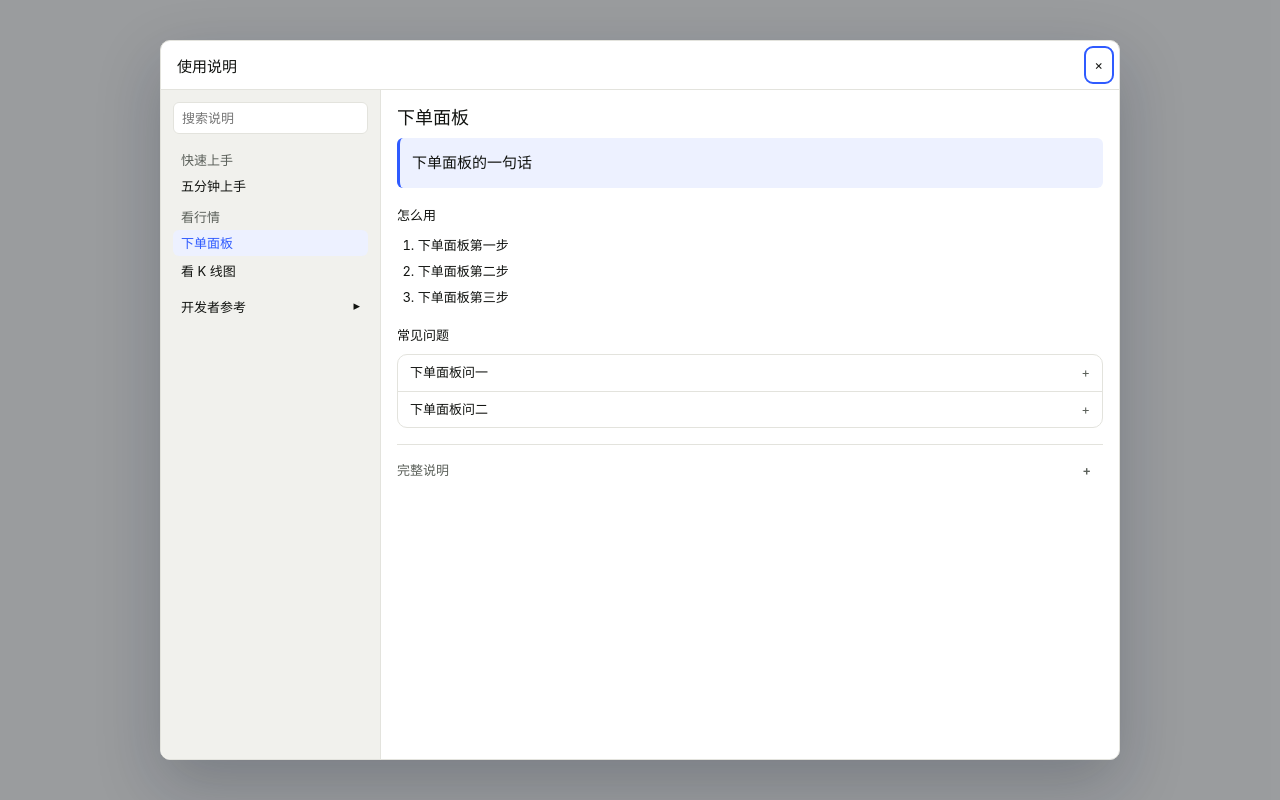
Test: 常见问题逐条展开，完整说明点开 / 收起
This screenshot has width=1280, height=800.
expect the element named "下单面板" is shown: met, box [397, 107, 1103, 489]
expect the text "下单面板答二" is not shown: met
Click the button "下单面板问二" at (449, 409), box [398, 392, 1102, 427]
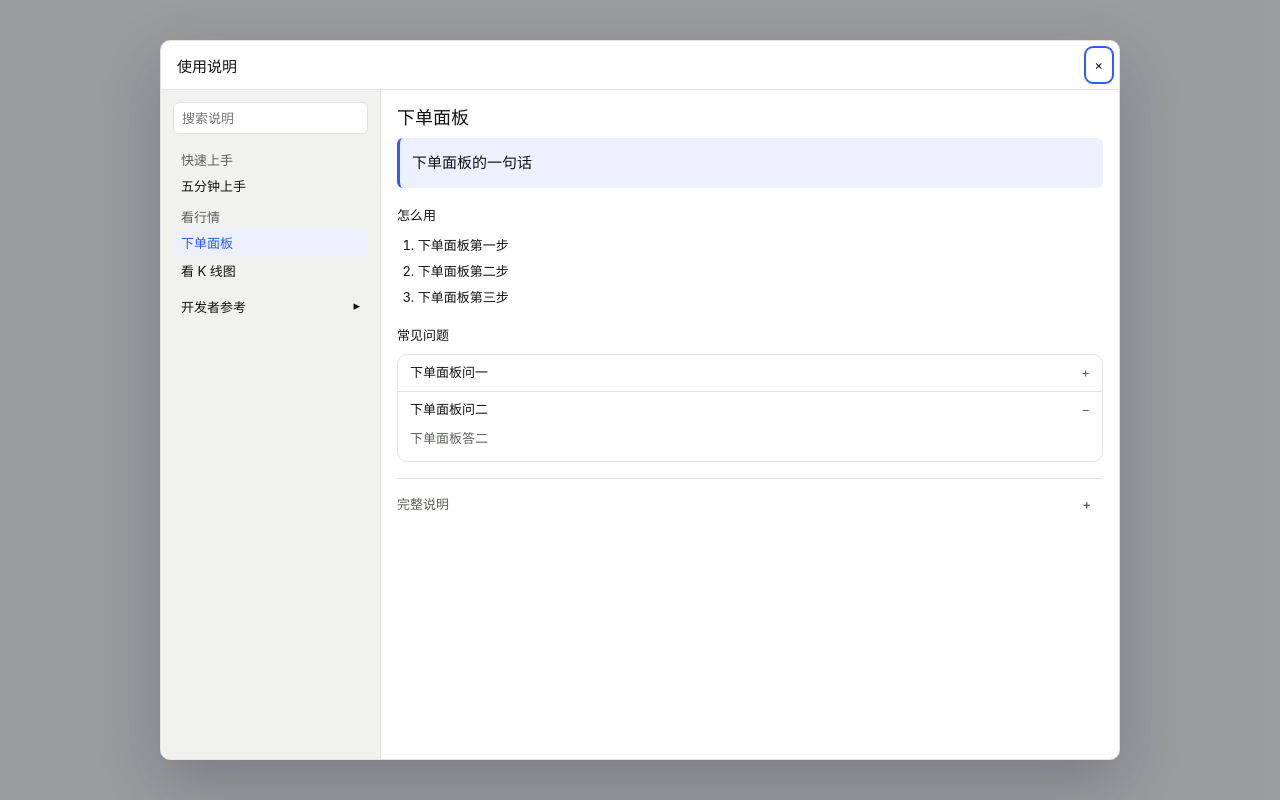
expect the text "下单面板答二" is shown: met, box [410, 430, 488, 446]
Click the button "完整说明" at (423, 504), box [397, 487, 1103, 523]
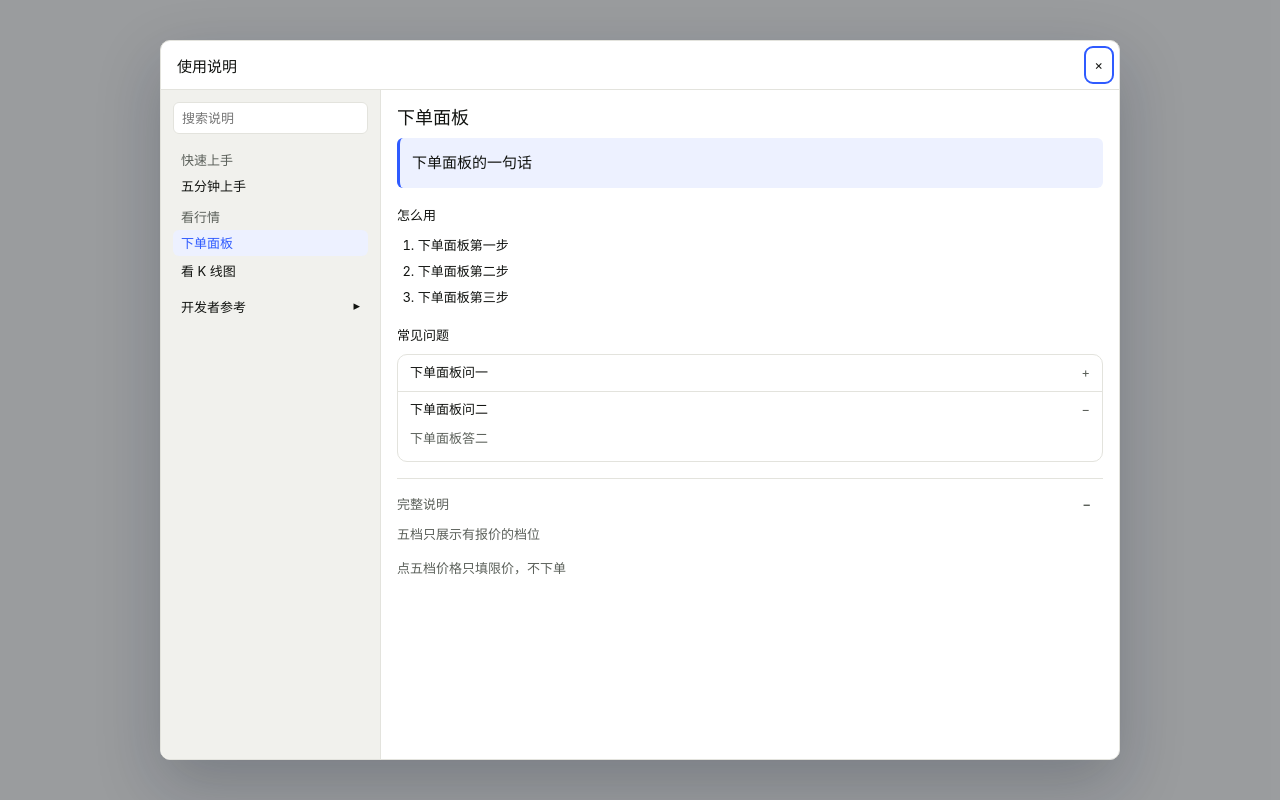
expect the text "点五档价格只填限价，不下单" is shown: met, box [397, 560, 566, 576]
Click the button "完整说明" at (423, 504), box [397, 487, 1103, 523]
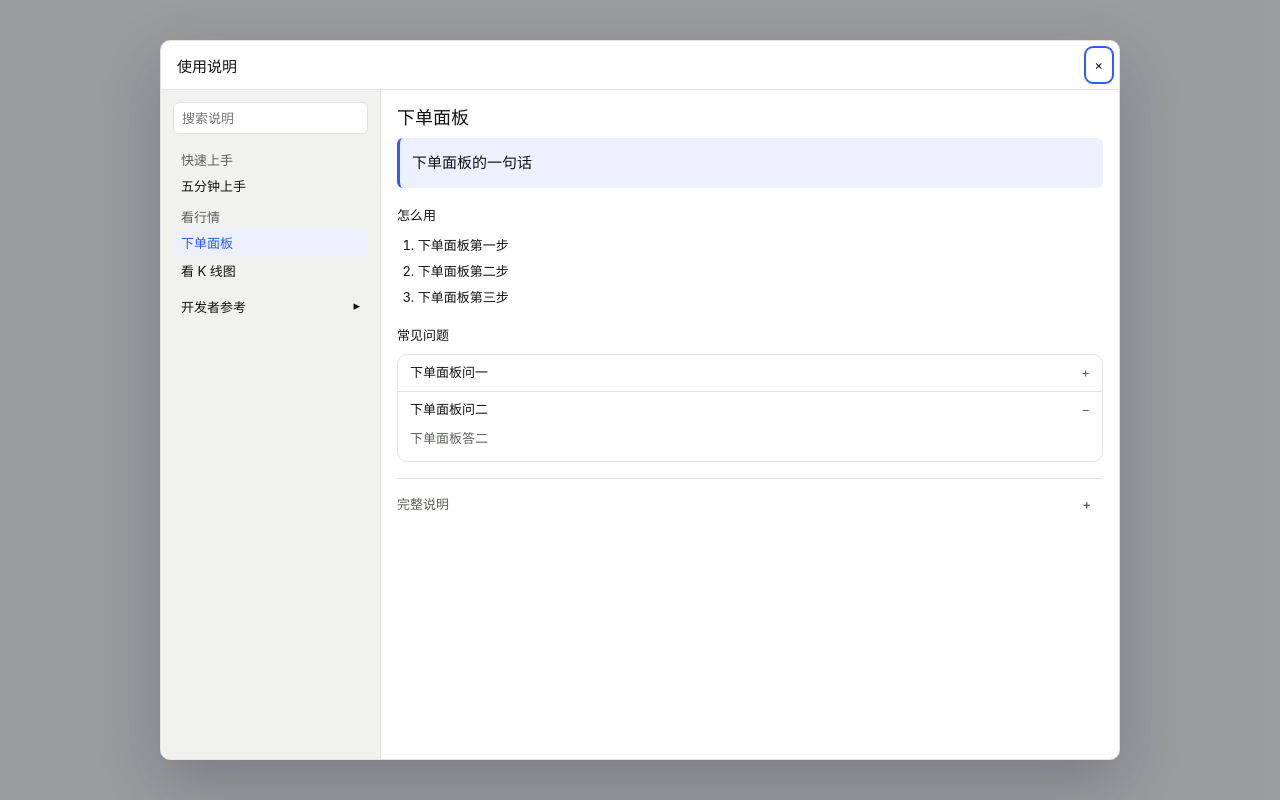
expect the text "点五档价格只填限价，不下单" is gone: met
